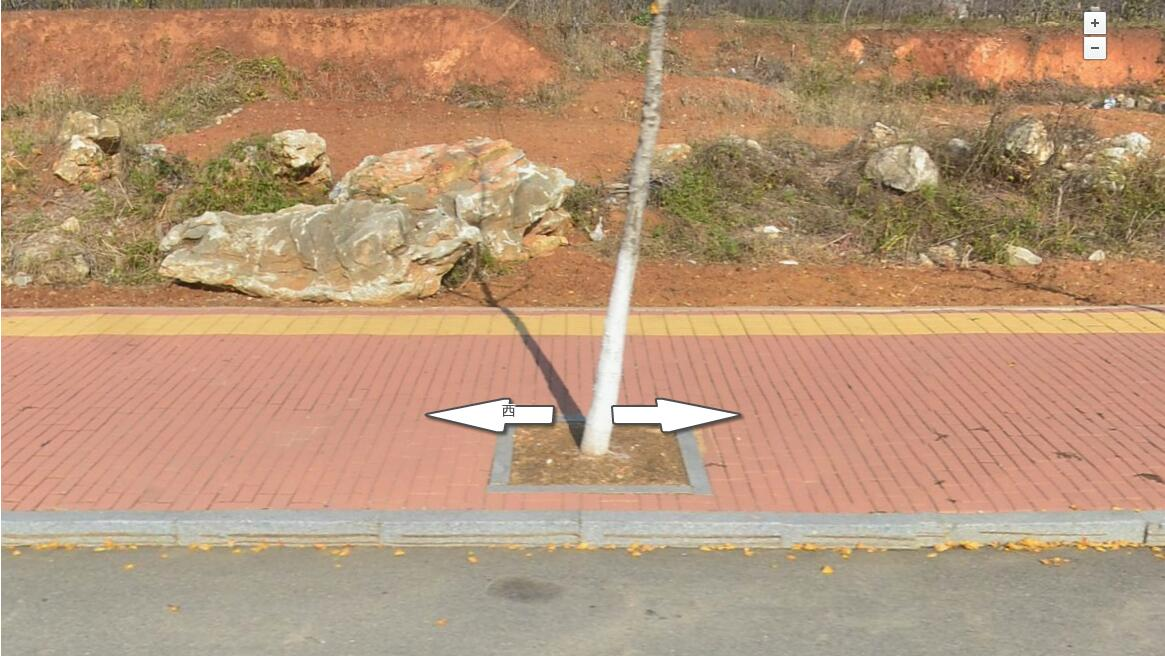side: (579, 511, 782, 550), (381, 511, 580, 547), (957, 512, 1148, 549), (171, 512, 380, 545), (780, 512, 955, 550)
